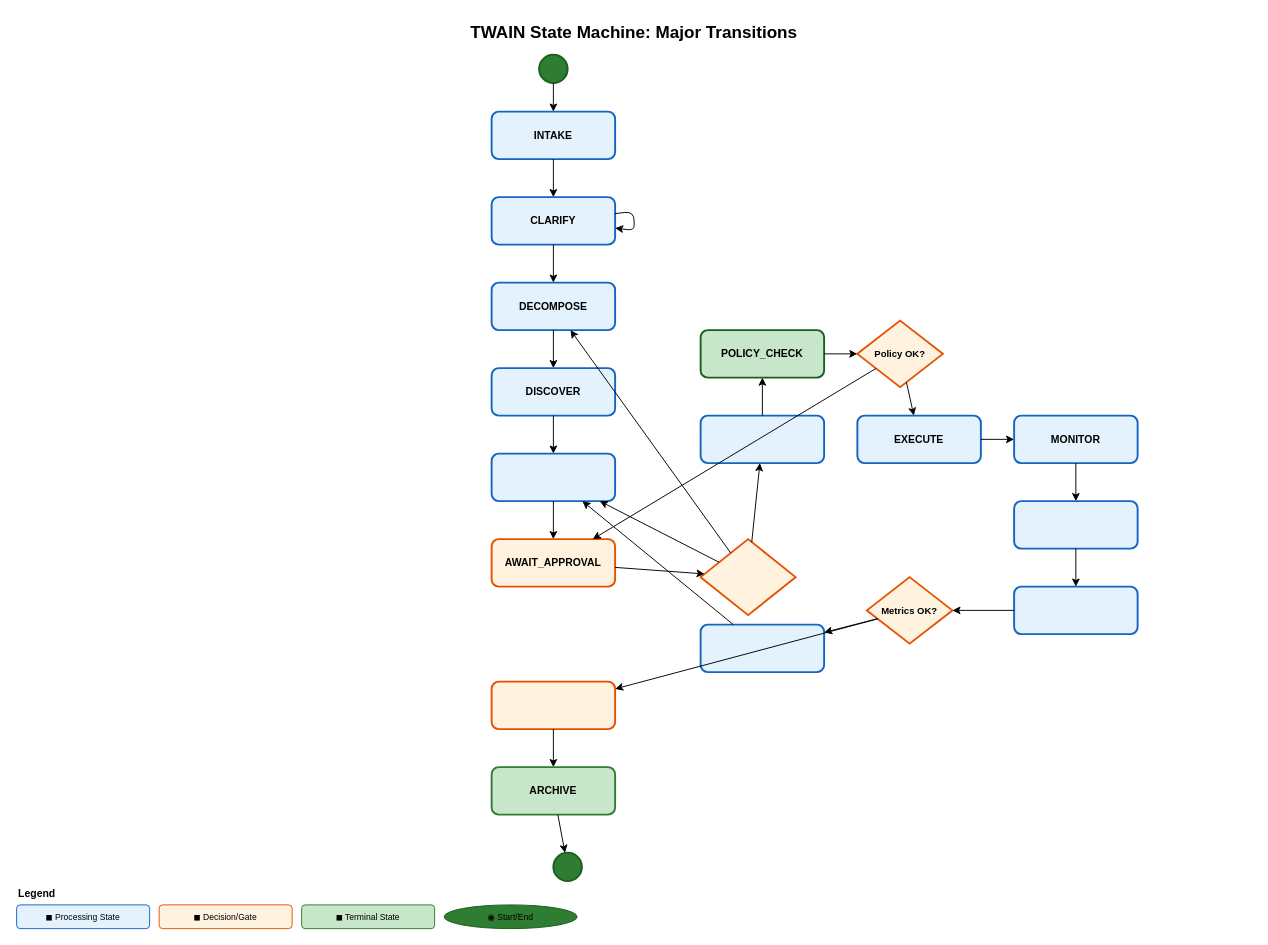
This 1268x945 diagram has some shape labels left out. The shapes that lost their labels are listed below. From the top down, each one's centre as x and y in pixels, then its label:
At (x=762, y=439): "CODE_GEN".
At (x=553, y=477): "PLAN_SYNTH".
At (x=1075, y=524): "INTERPRET".
At (x=747, y=577): "Researcher Decision?".
At (x=1075, y=610): "VALIDATE".
At (x=762, y=648): "CORRECT".
At (x=553, y=705): "FINAL_REVIEW".
